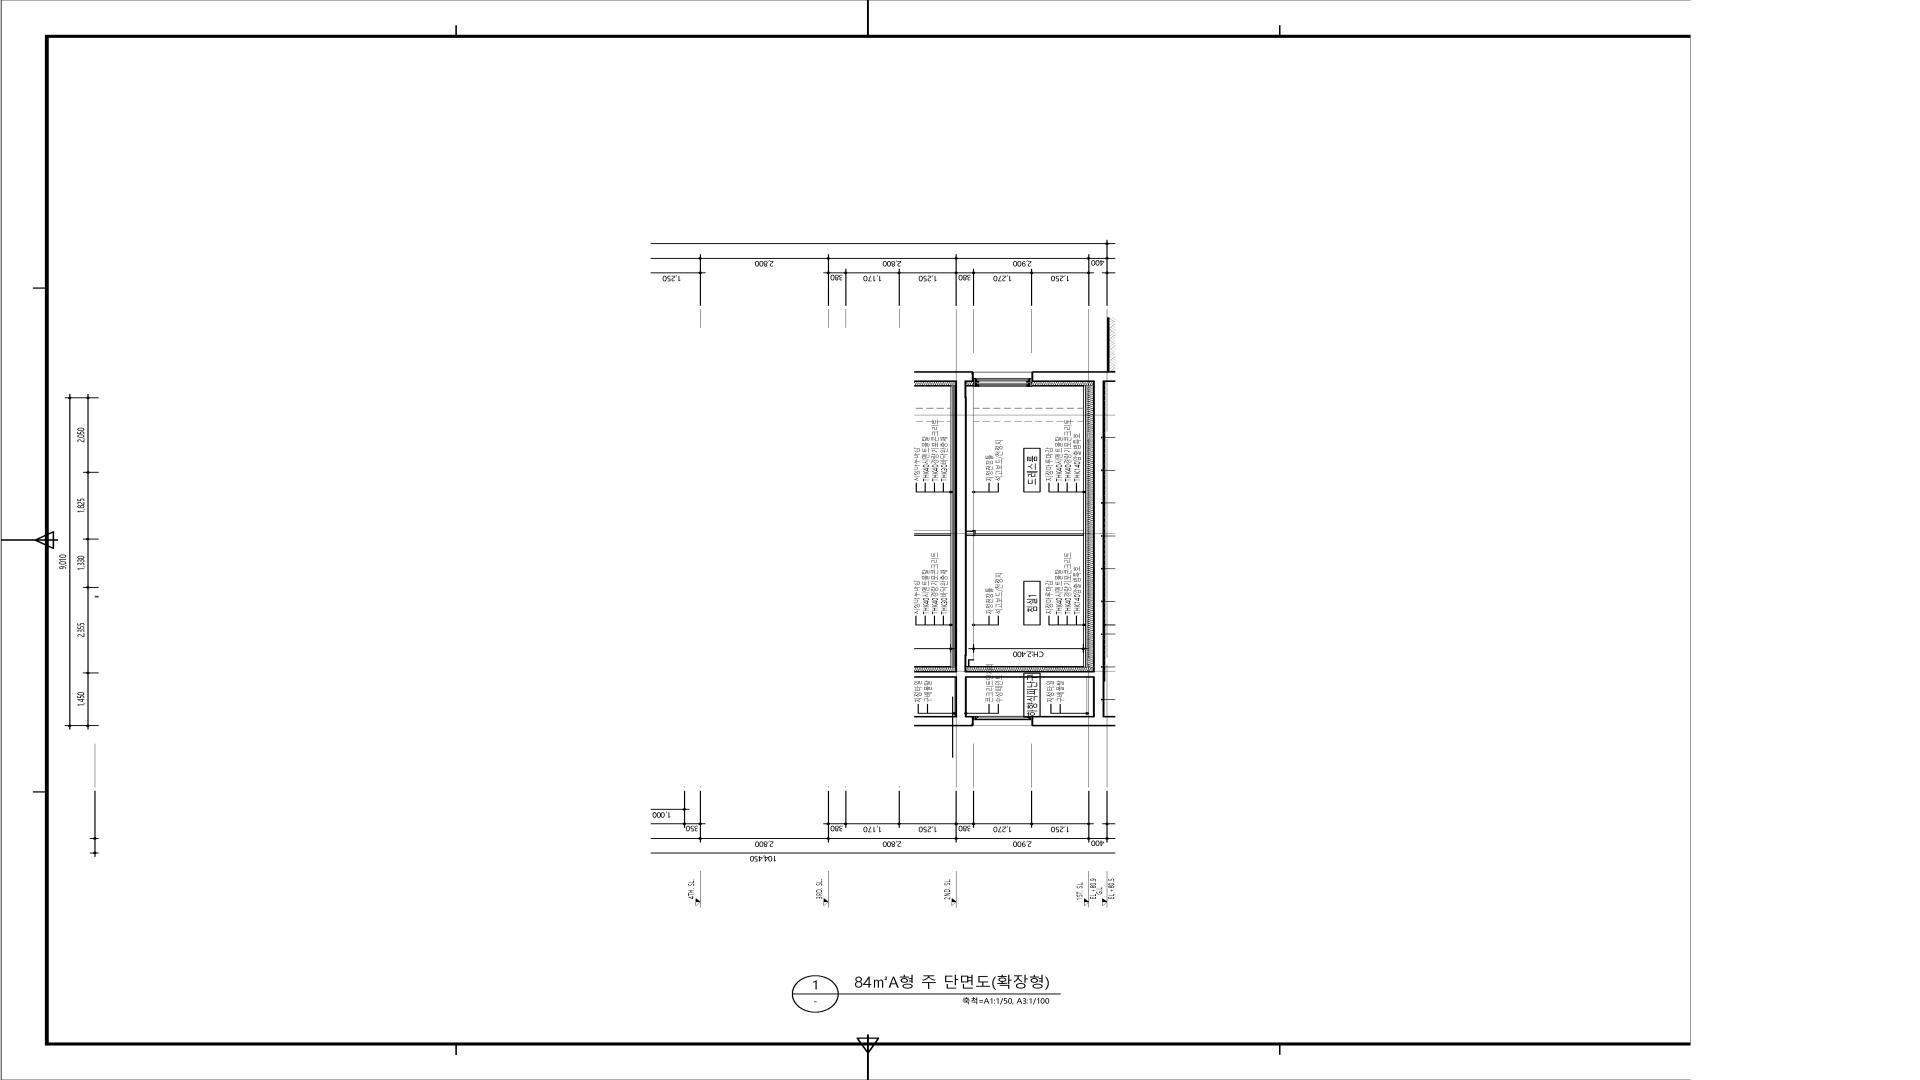background: (0, 0, 1920, 1080)
door: (972, 530, 1084, 537)
wall: (955, 371, 1105, 727), (967, 530, 972, 535)
window: (973, 372, 1031, 386), (973, 716, 1031, 725)
